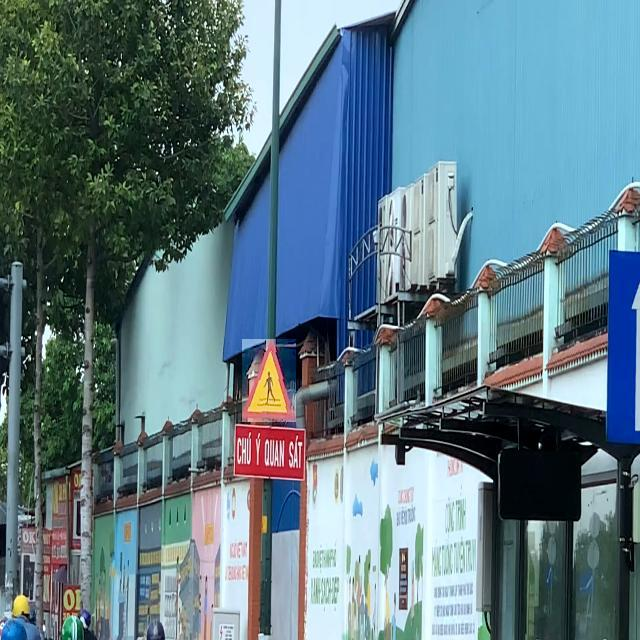W-224: (242, 339, 296, 422)
